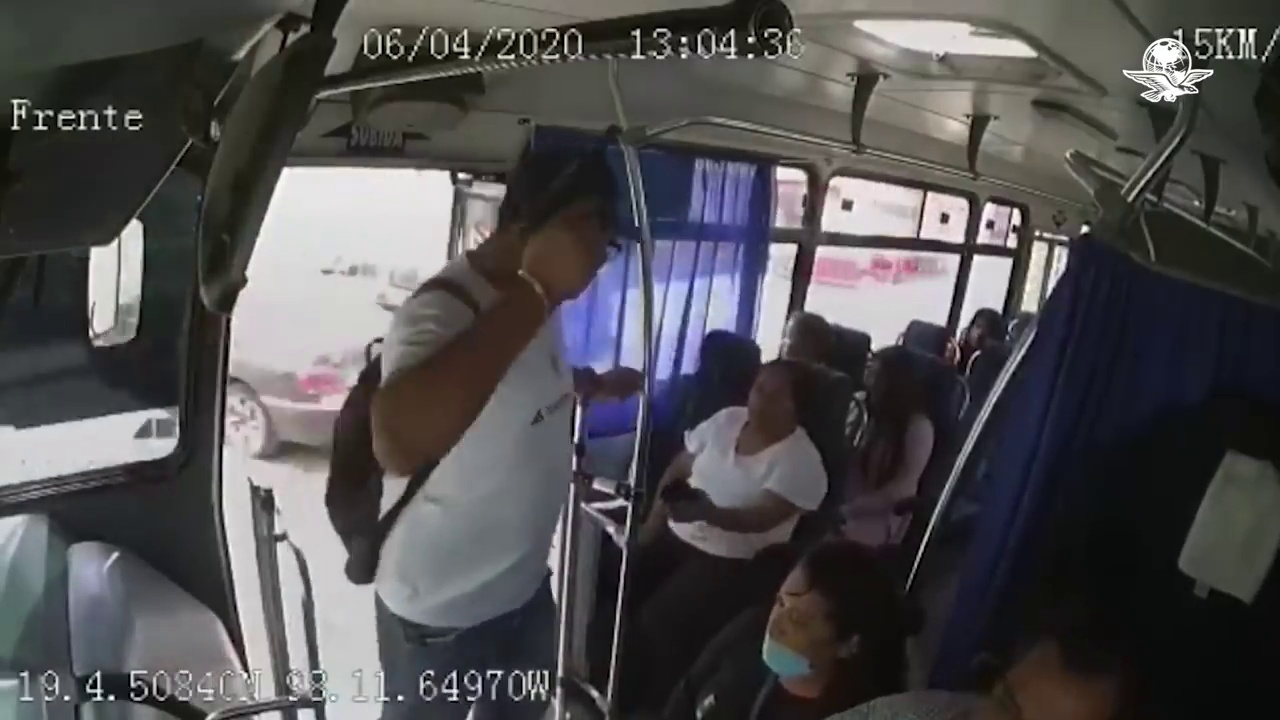pistol: (518, 121, 644, 254)
